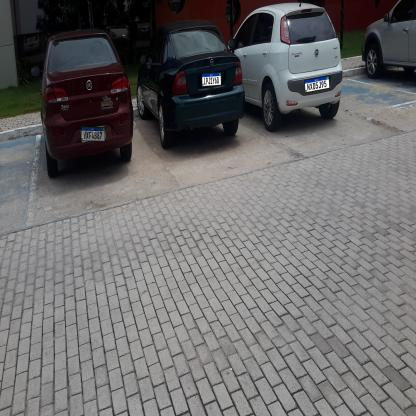PlacaM: (304, 76, 330, 93), (81, 127, 105, 142), (202, 72, 221, 87)
